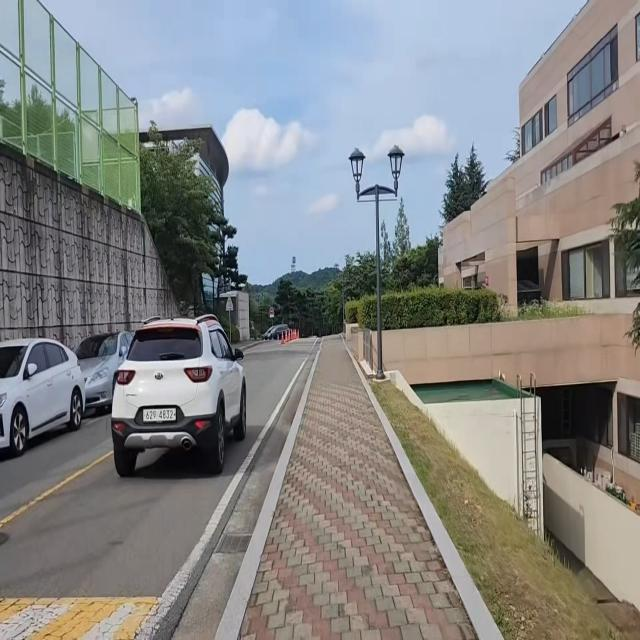obstacle: (106, 308, 249, 477)
road: (0, 339, 320, 640)
sidewalk: (213, 333, 511, 640), (0, 326, 92, 462)
